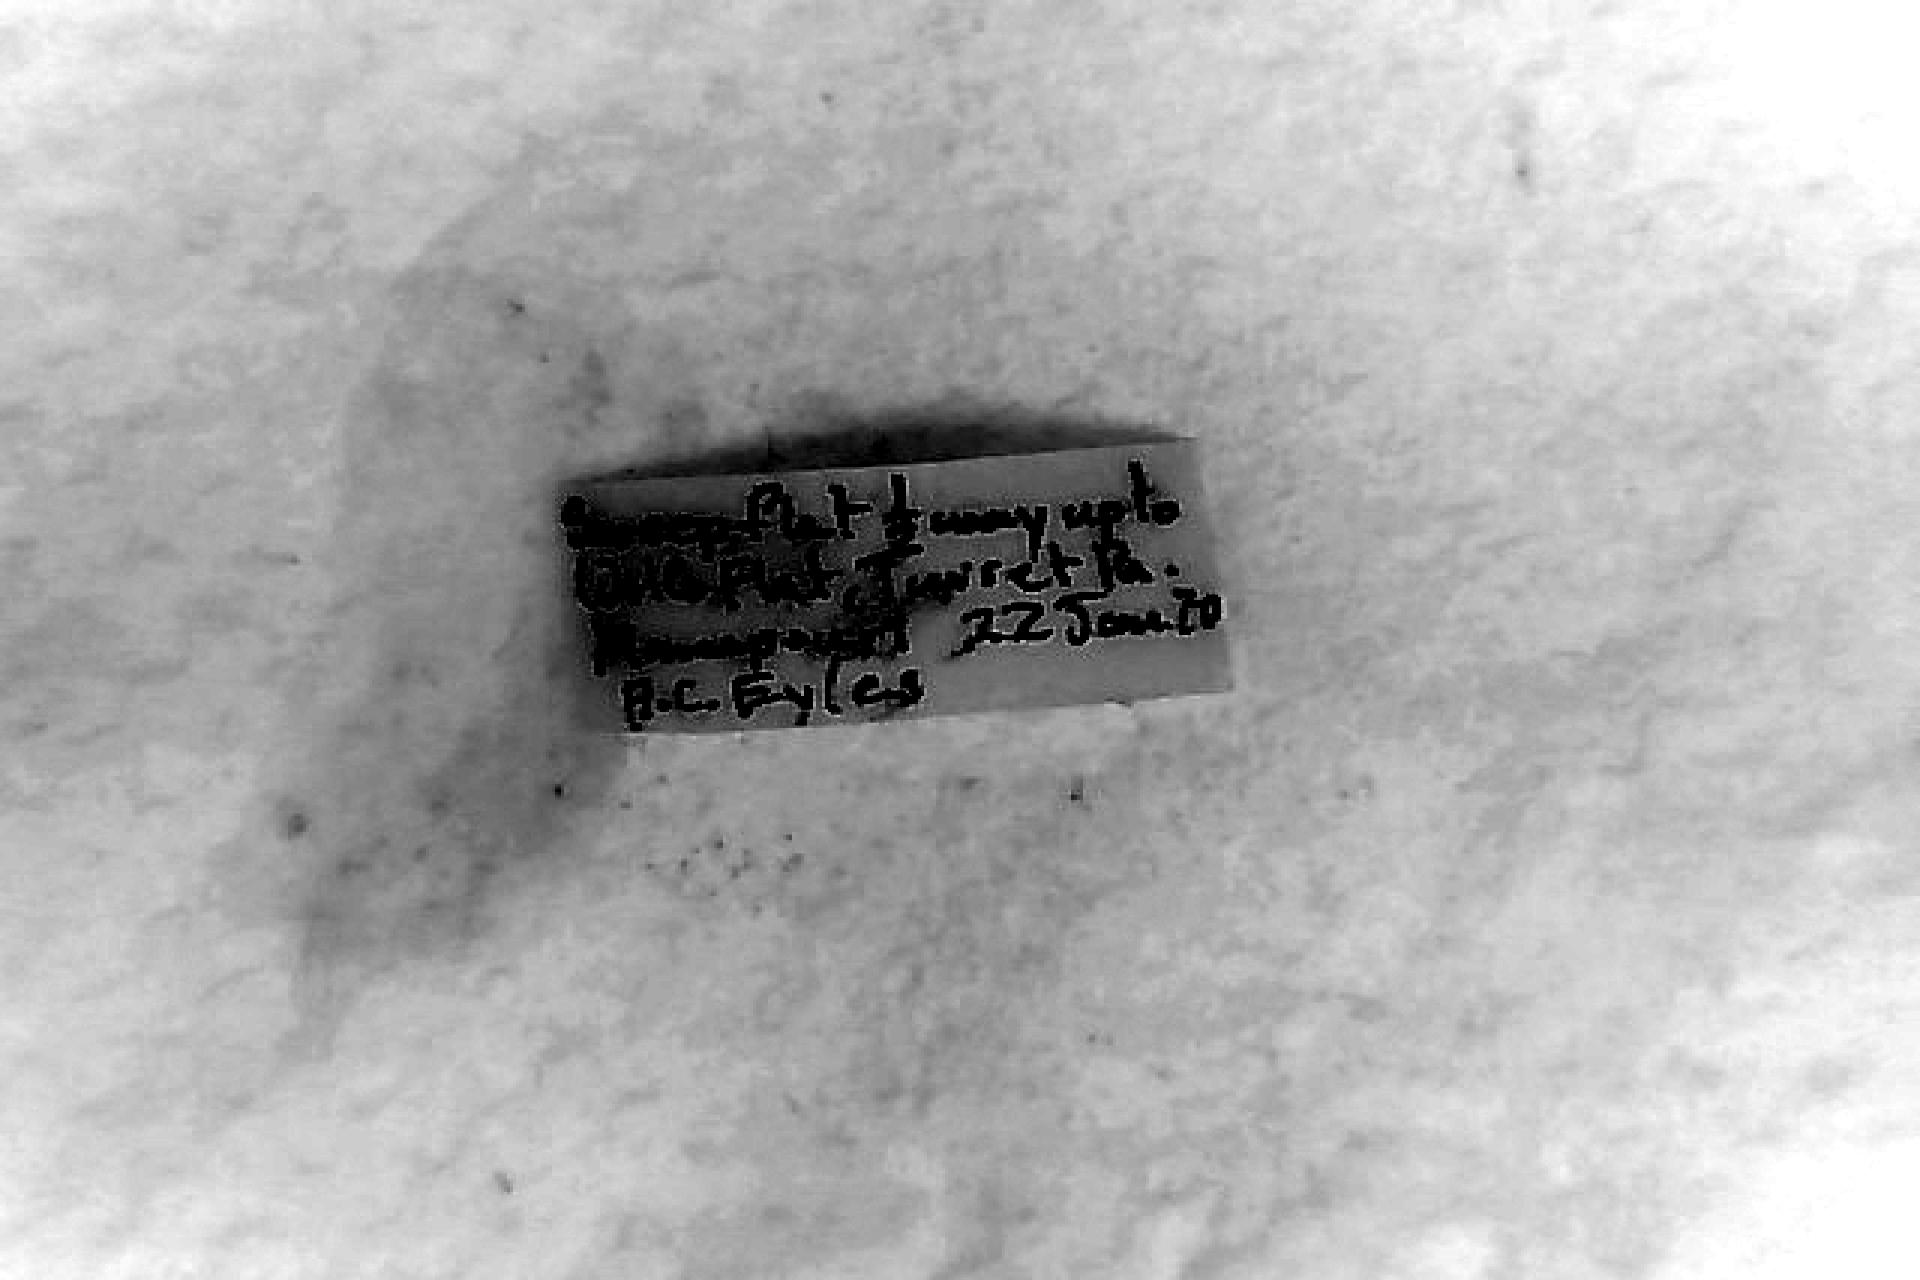hand_label: (559, 445, 1228, 732)
